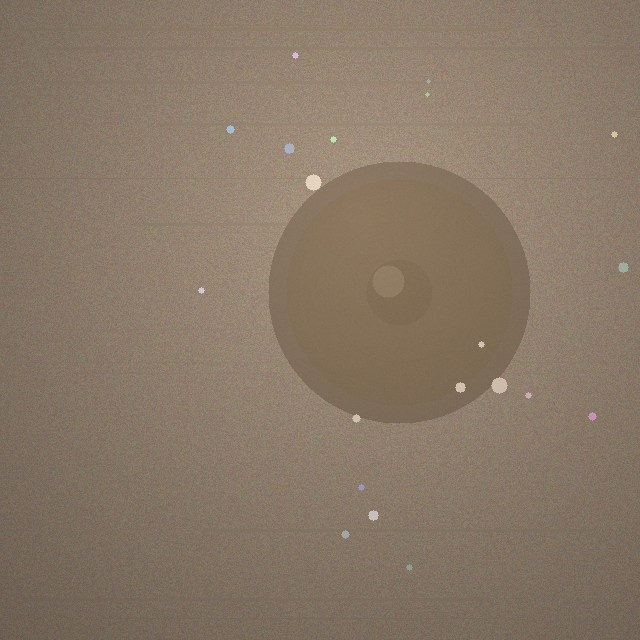overburn: (268, 161, 530, 423)
